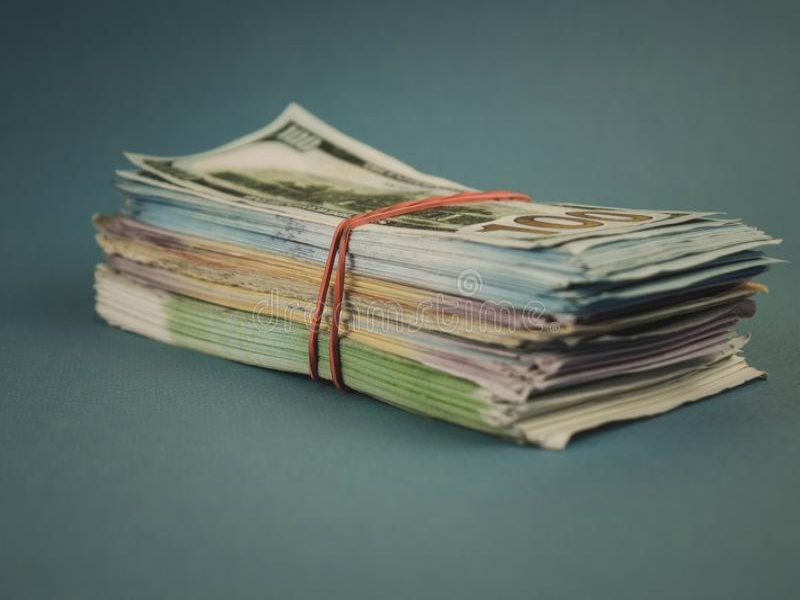cash: (92, 102, 791, 453)
